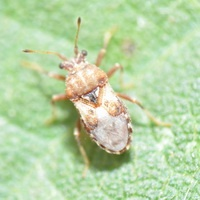insect: (22, 17, 171, 172)
